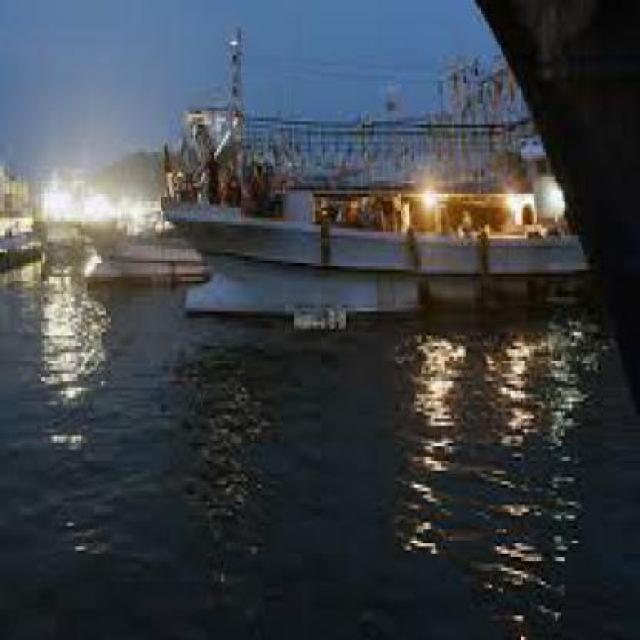fish-b: (154, 21, 611, 361)
